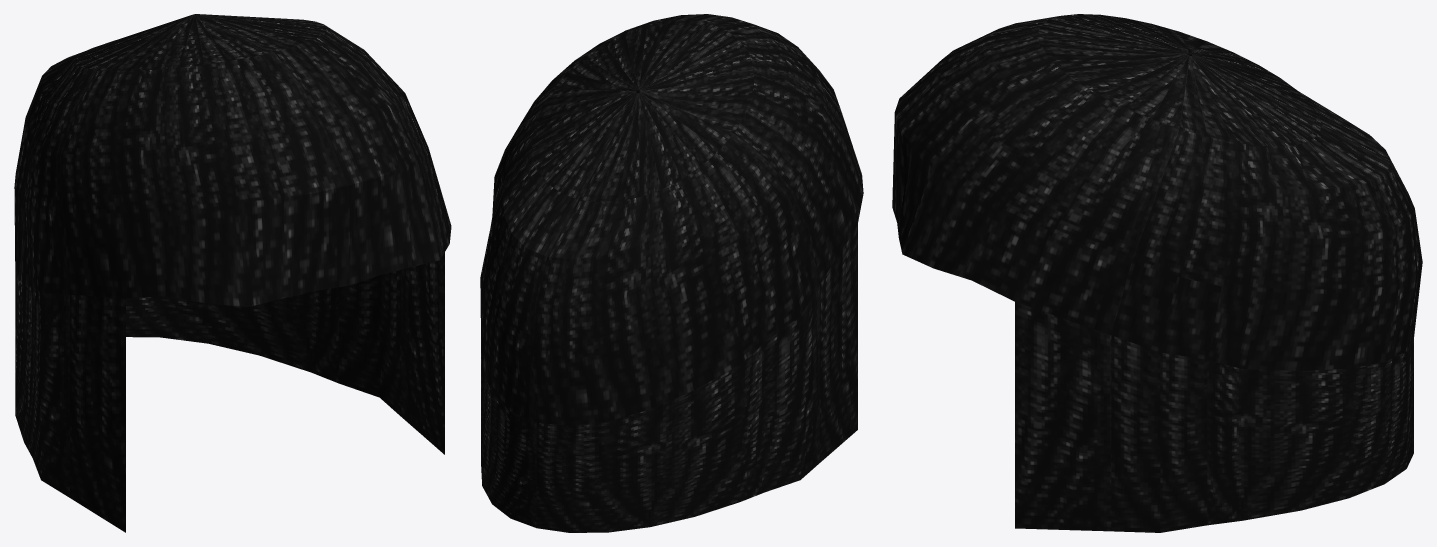
File: hair_lib_01.dae
3 renders of one model, left to right at view 1: azimuth 30°, elevation 25°; view 2: azimuth 150°, elevation 25°; view 3: azimuth 270°, elevation 25°, orthographic. The views are drawn at different scales.
Parts seen in each view (by area): view 1: a-hair_lib_01; view 2: a-hair_lib_01; view 3: a-hair_lib_01.
Boxes of the visible parts, <box> form: a-hair_lib_01: <box>14,14,451,532</box>; a-hair_lib_01: <box>480,14,863,532</box>; a-hair_lib_01: <box>892,14,1422,532</box>.
Size of the model in its own units: 0.4736 by 0.666 by 0.5795.
